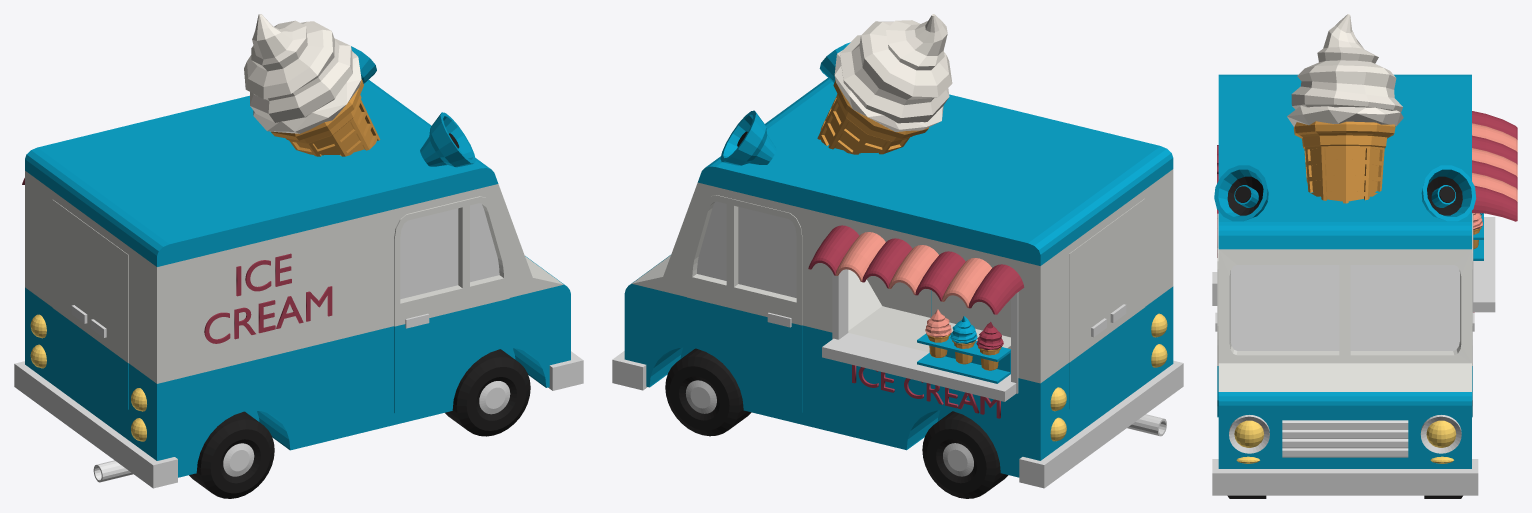
Rendered from Icecream_Truck.fbx.
3 views of the same model, side by side, from view 1: azimuth 30°, elevation 25°; view 2: azimuth 150°, elevation 25°; view 3: azimuth 270°, elevation 25° (orthographic). The views are drawn at different scales.
Parts seen in each view (by area): view 1: Carrinha, Porta, IceCream_3, Cube.005, Cube.004, Roda_D-F, Roda_D-T, Parachoques_Trás, Text.001, Megaphone, Parachoques_Frente, Luzes_1.002 (+1 smaller); view 2: Carrinha, Porta.001, IceCream_3, Cylinder.003, Cube.002, Cube.004, Cube.005, Roda_E-F, Roda_E-T, Parachoques_Trás, IceCream_3.003, Megaphone (+5 smaller); view 3: Carrinha, IceCream_3, Parachoques_Frente, Megaphone, Grelha.001, Cylinder.003, Cube.002, Luzes_1.1, Luzes_1, IceCream_3.003, Porta.
Boxes of the visible parts, x1,y1,x2,y2 form: Carrinha: (25, 79, 570, 482); Porta: (394, 196, 509, 413); IceCream_3: (244, 14, 380, 156); Cube.005: (90, 227, 128, 409); Cube.004: (52, 200, 90, 381); Roda_D-F: (445, 349, 530, 436); Roda_D-T: (189, 411, 274, 498); Parachoques_Trás: (14, 361, 177, 488); Text.001: (204, 253, 332, 343); Megaphone: (351, 46, 475, 167); Parachoques_Frente: (548, 351, 583, 390); Luzes_1.002: (30, 344, 146, 441); Carrinha: (624, 78, 1173, 477); Porta.001: (686, 195, 802, 412); IceCream_3: (817, 14, 952, 154); Cylinder.003: (808, 225, 1024, 314); Cube.002: (822, 269, 1018, 401); Cube.004: (1069, 226, 1107, 409); Cube.005: (1107, 198, 1145, 381); Roda_E-F: (665, 348, 751, 436); Roda_E-T: (922, 411, 1008, 498); Parachoques_Trás: (1019, 360, 1183, 488); IceCream_3.003: (917, 309, 1010, 383); Megaphone: (720, 42, 850, 165); Carrinha: (1218, 74, 1471, 468); IceCream_3: (1287, 14, 1403, 203); Parachoques_Frente: (1212, 459, 1478, 495); Megaphone: (1214, 165, 1476, 221); Grelha.001: (1282, 420, 1408, 457); Cylinder.003: (1472, 111, 1517, 221); Cube.002: (1472, 213, 1495, 312); Luzes_1.1: (1229, 415, 1461, 453); Luzes_1: (1234, 420, 1456, 447); IceCream_3.003: (1473, 213, 1483, 260); Porta: (1215, 213, 1218, 417).
Size of the model in its own units: 185 by 164 by 113.
